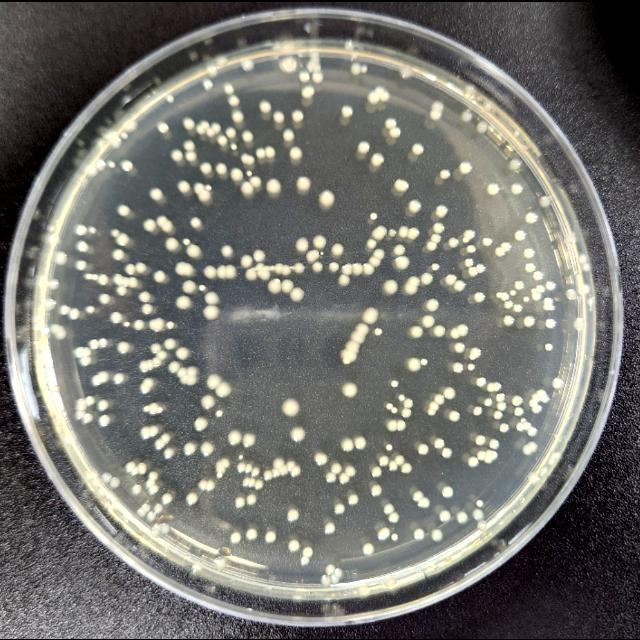colony: (282, 396, 300, 416), (362, 306, 378, 324), (202, 303, 220, 319), (216, 380, 232, 398), (319, 188, 335, 206), (281, 55, 297, 71), (174, 260, 190, 276), (296, 174, 312, 190), (186, 242, 202, 258), (206, 372, 222, 388), (266, 177, 282, 193), (342, 381, 358, 397), (290, 425, 306, 441), (240, 56, 256, 70), (372, 224, 386, 240), (314, 450, 328, 466), (228, 428, 242, 444), (200, 394, 216, 408), (384, 278, 398, 294), (340, 348, 358, 360), (463, 82, 477, 96), (54, 250, 68, 264), (200, 440, 214, 454), (204, 290, 218, 304), (194, 416, 208, 430), (182, 278, 196, 292), (410, 324, 424, 338), (396, 254, 410, 268), (176, 294, 190, 308), (408, 198, 422, 212), (267, 278, 281, 292), (290, 286, 304, 300), (122, 118, 138, 130), (342, 436, 354, 452), (240, 180, 253, 194), (166, 237, 180, 250), (242, 432, 255, 446), (312, 235, 326, 248), (407, 356, 421, 369), (150, 187, 163, 200), (230, 167, 243, 180), (384, 574, 398, 586), (258, 267, 272, 279), (214, 556, 228, 568), (356, 322, 370, 334), (44, 296, 56, 310), (400, 64, 412, 78), (116, 232, 130, 244), (296, 236, 308, 250), (395, 178, 409, 190), (116, 340, 130, 352), (259, 98, 271, 112), (204, 264, 216, 278), (524, 211, 538, 223), (371, 152, 385, 164), (85, 164, 98, 176), (356, 583, 369, 595), (75, 396, 87, 409), (346, 340, 359, 352), (574, 316, 586, 329), (170, 148, 183, 160), (176, 346, 188, 359), (184, 441, 196, 454), (64, 431, 76, 443), (216, 55, 228, 67), (149, 318, 161, 330), (207, 64, 219, 76), (290, 146, 302, 158), (564, 232, 576, 244), (306, 248, 318, 260), (111, 135, 123, 147), (156, 214, 168, 226), (528, 471, 540, 483), (378, 526, 390, 538), (352, 330, 364, 342), (154, 438, 166, 450), (192, 560, 204, 572), (118, 203, 130, 215), (112, 272, 124, 284), (190, 215, 202, 227), (299, 70, 311, 82), (178, 179, 190, 191), (48, 277, 60, 289), (193, 181, 205, 193), (135, 261, 147, 273), (183, 138, 195, 150), (79, 354, 91, 366), (77, 239, 89, 251), (302, 85, 314, 97), (477, 120, 489, 132), (552, 376, 564, 388), (139, 289, 151, 301), (144, 218, 156, 230), (121, 158, 133, 170), (367, 91, 379, 103), (183, 117, 195, 129), (98, 414, 110, 426), (228, 93, 240, 105), (363, 542, 375, 554), (113, 371, 125, 383), (140, 426, 152, 438), (386, 418, 398, 430), (405, 282, 417, 294), (163, 446, 175, 458), (168, 360, 180, 372), (442, 485, 454, 497), (431, 528, 443, 540), (439, 509, 451, 521), (427, 298, 439, 310), (245, 267, 257, 279), (232, 109, 244, 121), (111, 310, 123, 322), (464, 228, 476, 240), (154, 269, 166, 281), (164, 337, 176, 349), (221, 244, 233, 256), (354, 436, 366, 448), (456, 510, 468, 522), (283, 128, 295, 140), (324, 521, 336, 533), (68, 307, 80, 319), (200, 161, 212, 173), (253, 248, 265, 260), (460, 161, 472, 173), (358, 140, 370, 152), (342, 104, 354, 116), (99, 291, 111, 303), (287, 508, 299, 520), (539, 195, 551, 207), (292, 109, 304, 121), (240, 254, 252, 266), (246, 527, 258, 539), (433, 221, 445, 233), (331, 242, 343, 254), (444, 386, 456, 398), (503, 313, 515, 325), (412, 142, 424, 154), (487, 182, 499, 194), (436, 204, 448, 216), (186, 491, 198, 503), (370, 483, 382, 495), (230, 531, 242, 543), (288, 539, 300, 551), (449, 409, 461, 421), (433, 324, 445, 336), (514, 228, 526, 240), (421, 272, 433, 284), (423, 314, 435, 326), (216, 264, 226, 278), (282, 278, 292, 292), (482, 100, 493, 112), (351, 62, 362, 74), (470, 347, 482, 358), (75, 223, 87, 234), (157, 121, 169, 132), (331, 461, 342, 473), (418, 496, 429, 508), (223, 82, 234, 94), (98, 398, 109, 410), (125, 262, 136, 274), (273, 457, 285, 468), (378, 454, 389, 466), (388, 511, 399, 522), (183, 263, 193, 275), (152, 522, 162, 534), (199, 190, 211, 200), (162, 220, 172, 232), (92, 374, 102, 386), (149, 424, 159, 436), (96, 158, 106, 170), (226, 264, 236, 276), (432, 100, 444, 110), (509, 158, 521, 168), (338, 274, 350, 284), (462, 109, 472, 121), (242, 130, 254, 140), (250, 174, 260, 186), (113, 248, 125, 258), (126, 460, 136, 472), (150, 342, 162, 352), (98, 272, 108, 284), (414, 527, 424, 539), (389, 126, 401, 136), (353, 262, 363, 274), (338, 472, 350, 482), (385, 117, 397, 127), (384, 502, 394, 514), (312, 71, 324, 81), (274, 110, 284, 122), (266, 530, 276, 542), (364, 262, 374, 274), (256, 146, 266, 158), (458, 323, 468, 335), (335, 502, 345, 514), (393, 244, 405, 254), (302, 546, 314, 556), (512, 182, 522, 194), (409, 226, 419, 238), (234, 496, 246, 506), (446, 272, 456, 284), (524, 314, 534, 326), (345, 39, 355, 50), (56, 327, 66, 338), (203, 78, 213, 89), (98, 370, 109, 380), (431, 109, 442, 119), (399, 226, 409, 237), (472, 508, 483, 518), (186, 150, 197, 160), (408, 276, 419, 286), (134, 317, 144, 328), (442, 447, 452, 458), (418, 442, 428, 453), (434, 392, 444, 403), (348, 492, 358, 503), (396, 418, 406, 429), (216, 162, 227, 172), (452, 362, 463, 372), (247, 492, 257, 503), (96, 486, 105, 498), (91, 476, 101, 486), (306, 61, 316, 71), (51, 323, 61, 333), (87, 468, 97, 478), (240, 152, 250, 162), (544, 296, 554, 306), (518, 142, 528, 152), (274, 262, 284, 272), (488, 449, 498, 459), (532, 290, 542, 300), (492, 380, 502, 390), (245, 154, 255, 164), (536, 388, 546, 398), (139, 360, 149, 370), (149, 402, 159, 412), (140, 383, 150, 393), (152, 356, 162, 366), (285, 460, 295, 470), (128, 276, 138, 286), (60, 304, 70, 314), (220, 457, 230, 467), (380, 90, 390, 100), (334, 567, 344, 577), (187, 366, 197, 376), (74, 346, 84, 356), (580, 283, 590, 293), (528, 441, 538, 451), (137, 462, 147, 472), (476, 450, 486, 460), (320, 574, 330, 584), (429, 400, 439, 410), (83, 412, 93, 422), (160, 432, 170, 442), (149, 484, 159, 494), (495, 246, 505, 256), (198, 479, 208, 489), (342, 263, 352, 273), (522, 444, 532, 454), (578, 253, 588, 263), (211, 121, 221, 131), (76, 259, 86, 269), (496, 392, 506, 402), (263, 469, 273, 479), (254, 478, 264, 488), (477, 519, 487, 529), (132, 483, 142, 493), (475, 434, 485, 444), (291, 465, 301, 475), (370, 256, 380, 266), (266, 146, 276, 156), (282, 264, 292, 274), (395, 454, 405, 464), (413, 490, 423, 500), (102, 472, 112, 482), (388, 460, 398, 470), (566, 288, 576, 298), (160, 522, 170, 532), (149, 470, 159, 480), (218, 134, 228, 144), (513, 406, 523, 416), (431, 233, 441, 243), (476, 262, 486, 272), (476, 376, 486, 386), (117, 284, 127, 294), (402, 407, 412, 417), (427, 240, 437, 250), (468, 266, 478, 276), (312, 261, 322, 271), (153, 502, 163, 512), (374, 248, 384, 258), (142, 303, 152, 313), (226, 126, 236, 136), (329, 261, 339, 271), (162, 492, 172, 502), (489, 438, 499, 448), (450, 328, 460, 338), (367, 238, 377, 248), (473, 405, 483, 415), (514, 280, 524, 290), (402, 462, 412, 472), (88, 338, 98, 348), (325, 563, 335, 573), (501, 241, 511, 251), (403, 397, 413, 407), (372, 466, 382, 476), (326, 472, 336, 482), (524, 247, 534, 257), (294, 262, 304, 272), (546, 280, 556, 290), (500, 422, 510, 432), (345, 465, 355, 475), (533, 270, 543, 280), (475, 291, 485, 301), (468, 456, 478, 466), (455, 342, 465, 352), (449, 236, 459, 246), (434, 438, 444, 448), (454, 280, 464, 290), (546, 318, 556, 328), (110, 476, 120, 486), (512, 395, 522, 405), (525, 261, 535, 271), (440, 168, 450, 178), (309, 56, 321, 64), (46, 224, 58, 232), (540, 465, 548, 477), (76, 409, 86, 418), (312, 61, 322, 70), (144, 378, 154, 387), (532, 403, 542, 412), (156, 349, 166, 358), (498, 400, 507, 410), (482, 237, 492, 246), (197, 125, 206, 134), (99, 338, 108, 347), (493, 409, 502, 418), (216, 459, 226, 467), (130, 466, 140, 474), (342, 355, 352, 363), (121, 276, 129, 286), (188, 374, 196, 384), (582, 262, 592, 270), (242, 476, 250, 486), (200, 120, 210, 128), (110, 228, 120, 236), (375, 86, 385, 94), (245, 462, 253, 472), (331, 574, 339, 584), (528, 398, 538, 406), (486, 382, 494, 392), (252, 466, 260, 476), (500, 292, 510, 300), (504, 300, 514, 308), (178, 367, 186, 377), (207, 126, 215, 136), (206, 479, 214, 489), (300, 556, 310, 564), (279, 466, 289, 474), (136, 508, 146, 516), (238, 462, 246, 472), (146, 510, 154, 520), (484, 396, 492, 406), (86, 394, 94, 404), (527, 426, 537, 434), (466, 244, 476, 252), (464, 258, 474, 266), (296, 586, 308, 592), (146, 359, 154, 368), (82, 347, 91, 355), (388, 228, 397, 236), (146, 479, 156, 486), (532, 392, 540, 400), (272, 467, 280, 475), (166, 94, 174, 102), (256, 262, 264, 270), (181, 374, 189, 382), (120, 130, 128, 138), (542, 395, 550, 403), (536, 284, 544, 292), (476, 498, 484, 506), (516, 422, 524, 430), (166, 320, 174, 328), (390, 532, 398, 540), (514, 303, 522, 311), (142, 502, 150, 510), (432, 262, 440, 270), (86, 305, 94, 313), (53, 384, 61, 392), (548, 457, 556, 465), (89, 225, 98, 232), (588, 296, 594, 306), (310, 50, 320, 56), (524, 420, 530, 430), (216, 467, 226, 473), (351, 51, 359, 58), (108, 160, 116, 167), (183, 236, 190, 244), (398, 394, 406, 401), (215, 409, 222, 416), (484, 456, 492, 462), (248, 478, 256, 484), (92, 272, 98, 280), (514, 128, 520, 136), (361, 64, 367, 72), (428, 408, 436, 414), (144, 404, 150, 412), (386, 402, 394, 408), (468, 362, 474, 370), (370, 212, 378, 218), (546, 342, 552, 350), (551, 450, 557, 458), (392, 379, 398, 386), (556, 451, 560, 461), (543, 304, 549, 310), (548, 304, 554, 310), (157, 406, 163, 412), (470, 353, 476, 359), (86, 272, 92, 278), (216, 472, 222, 478), (124, 320, 130, 326), (199, 284, 205, 290), (247, 169, 253, 175), (206, 184, 212, 190), (231, 143, 237, 149), (463, 236, 469, 242), (496, 291, 502, 297), (510, 289, 516, 295), (391, 406, 397, 412), (421, 358, 427, 364), (376, 328, 382, 334), (386, 443, 392, 449), (520, 417, 526, 421), (523, 296, 529, 300), (566, 279, 570, 283), (532, 288, 536, 292), (239, 454, 243, 458), (321, 252, 324, 254)
